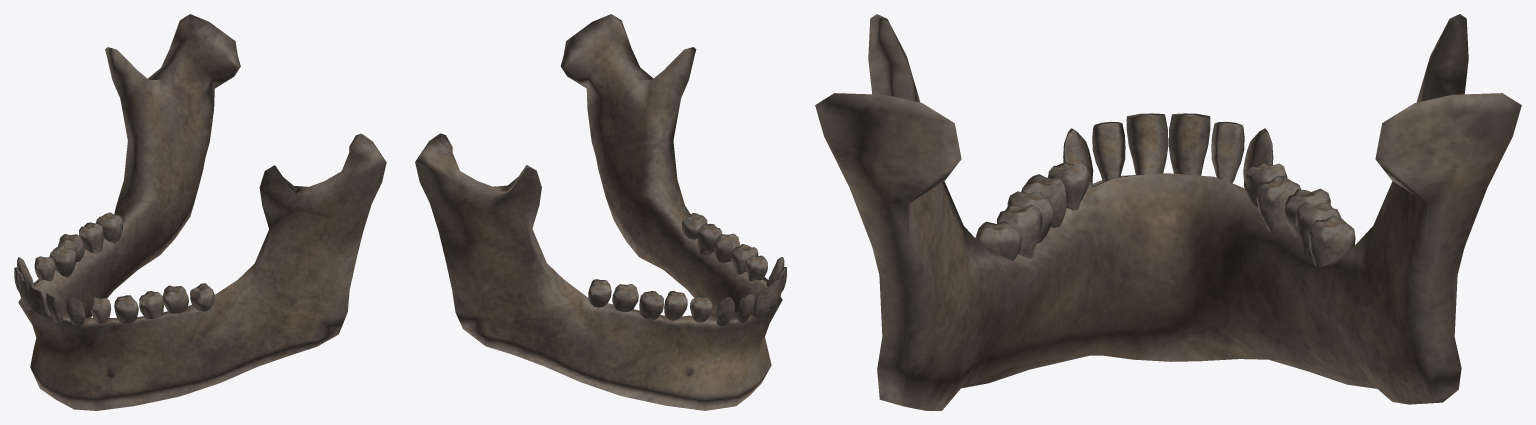
Rendered from sm_Mandible_01_01.fbx.
3 views of the same model, side by side, from view 1: azimuth 30°, elevation 25°; view 2: azimuth 150°, elevation 25°; view 3: azimuth 270°, elevation 25° (orthographic). The views are drawn at different scales.
Visible parts, largest first — view 1: sm_Mandible_01_01_LOD0; view 2: sm_Mandible_01_01_LOD0; view 3: sm_Mandible_01_01_LOD0.
Boxes of the visible parts, left/top/right/bottom form: sm_Mandible_01_01_LOD0: left=14, top=14, right=386, bottom=410; sm_Mandible_01_01_LOD0: left=415, top=14, right=786, bottom=410; sm_Mandible_01_01_LOD0: left=815, top=14, right=1521, bottom=410.
Size of the model in its own units: 12.24 by 15.14 by 10.94.
